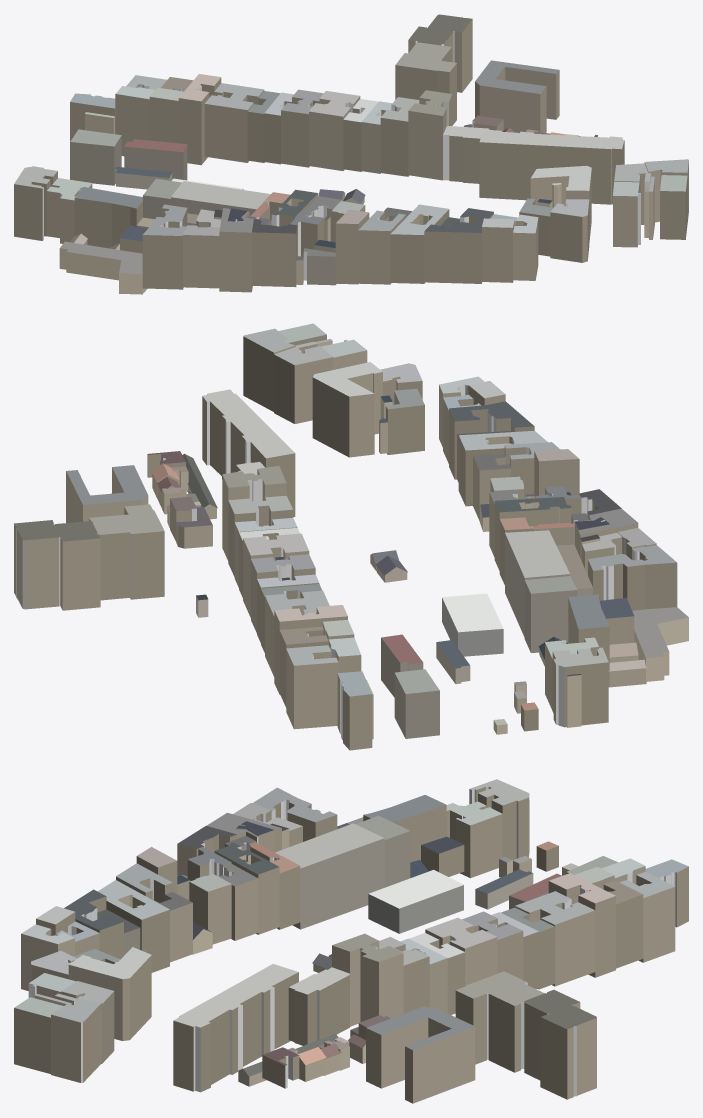
3 renders of one model, top to bottom at view 1: azimuth 30°, elevation 25°; view 2: azimuth 150°, elevation 25°; view 3: azimuth 270°, elevation 25°, orthographic. The views are drawn at different scales.
Visible parts, largest first — view 1: tuile; view 2: tuile; view 3: tuile.
Boxes of the visible parts, x1,y1,x2,y2 form: tuile: (14, 14, 688, 294); tuile: (14, 323, 688, 750); tuile: (14, 779, 688, 1103).
Bounding box in the file's own units: 273 × 45.41 × 268.
